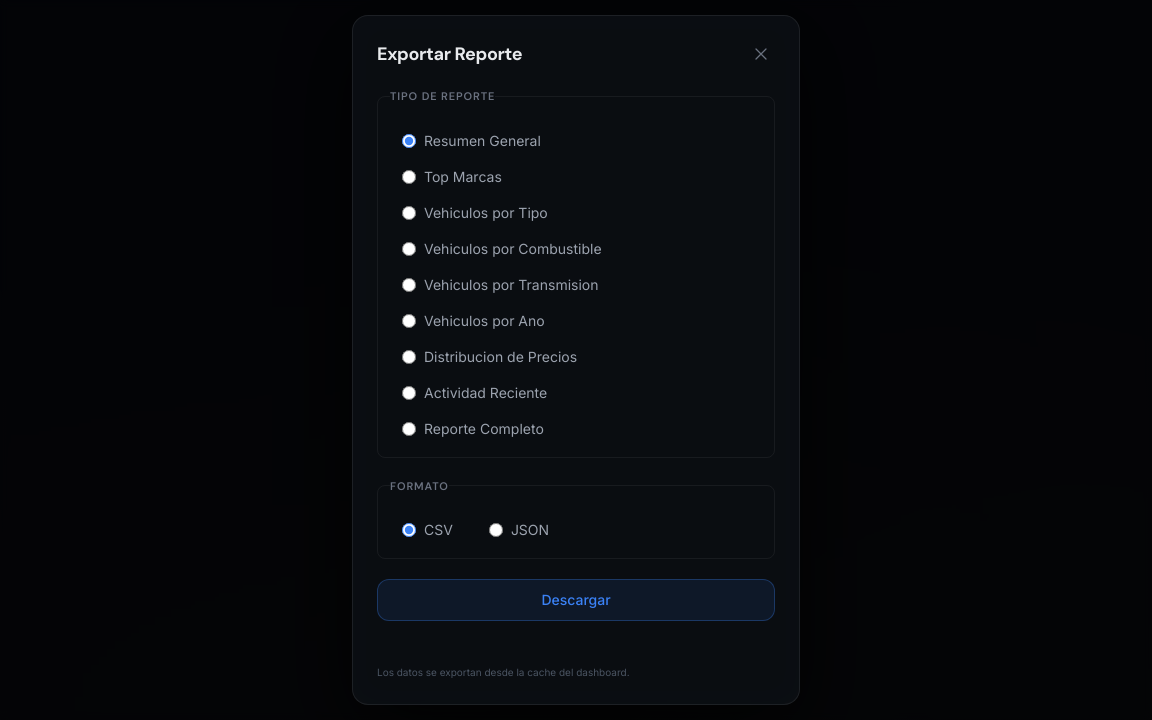
Test: ExportModal › CSV re-enables when switching back to individual report
Click the radio button labelled "Reporte Completo": (409, 428) left=402, top=422, right=416, bottom=436
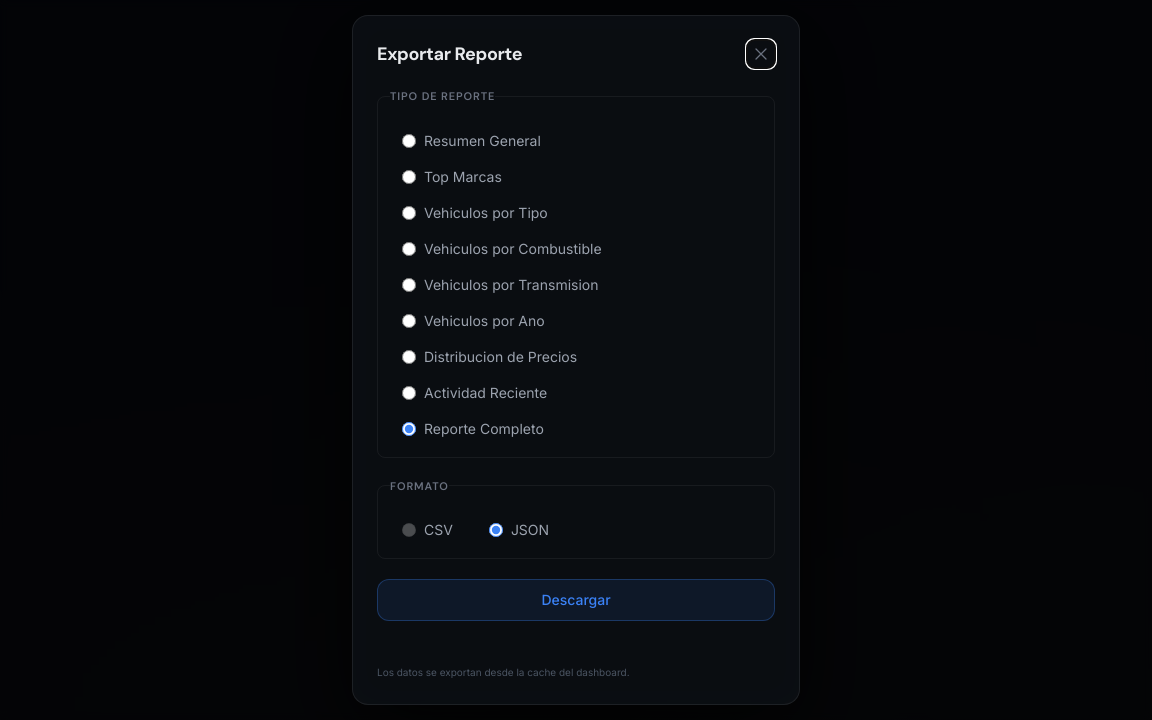
Expected: the radio button showing "csv" is disabled, left=402, top=523, right=416, bottom=537
Click the radio button labelled "Top Marcas": (409, 176) left=402, top=170, right=416, bottom=184
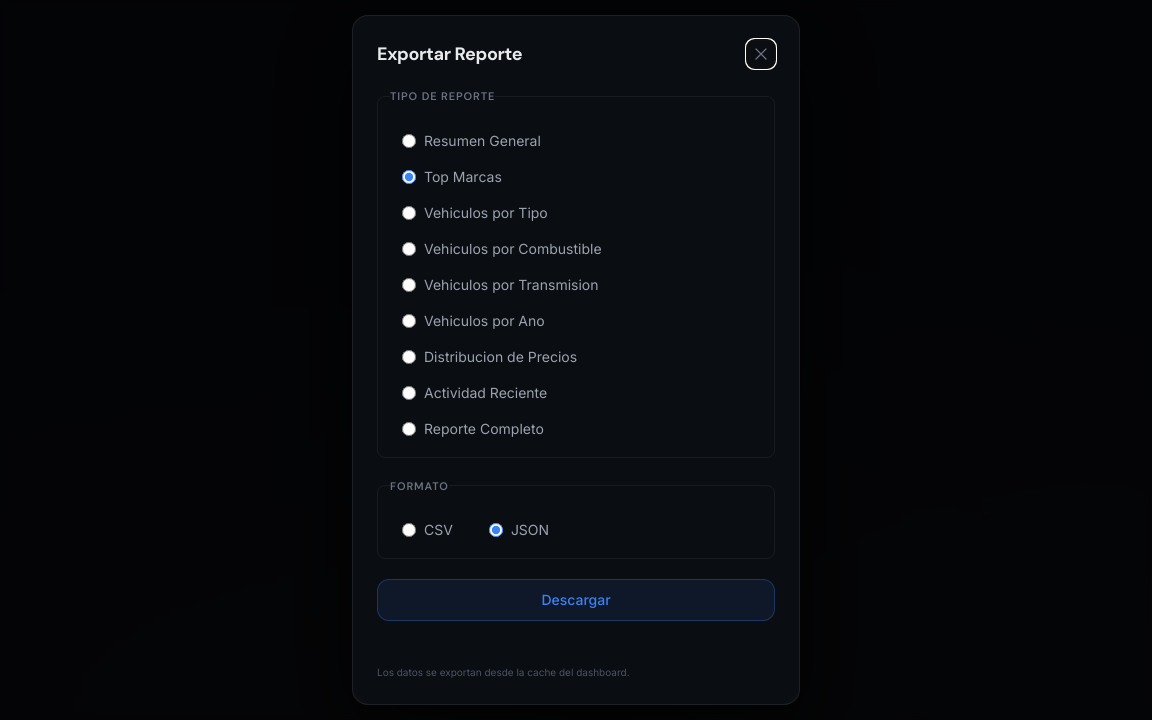
Expected: the radio button showing "csv" is enabled, left=402, top=523, right=416, bottom=537
